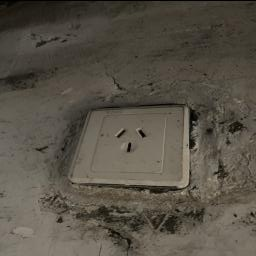outlet: (63, 91, 200, 199)
